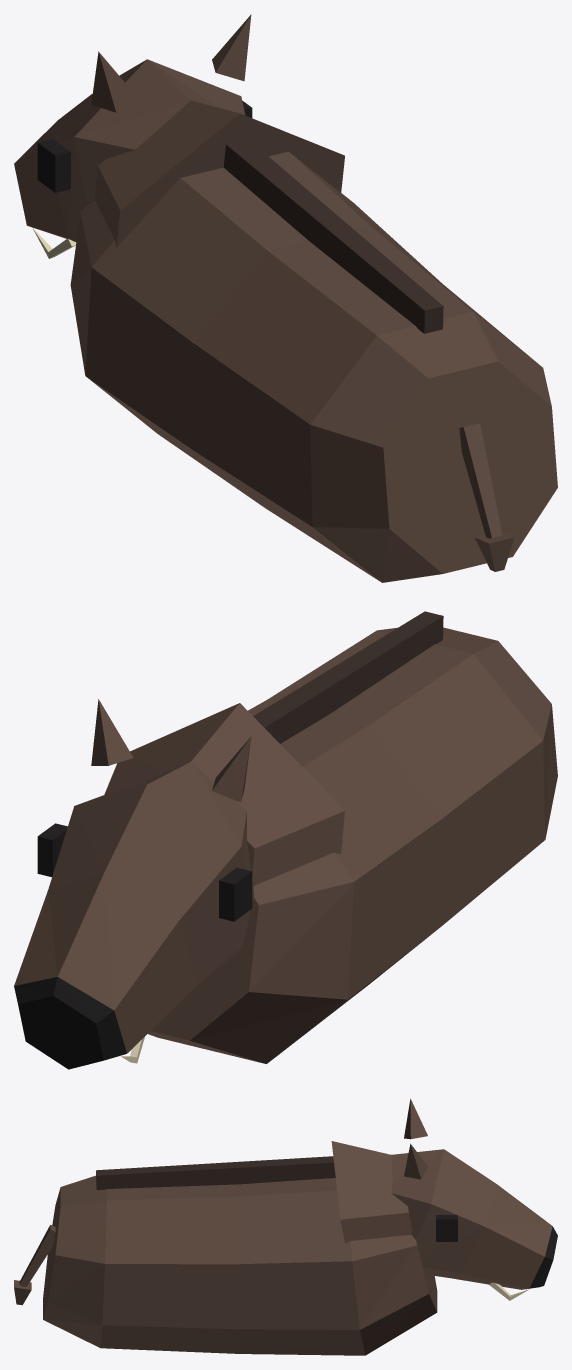
Rendered from animal_wildboar.obj.
The picture shows the model from 3 angles, top to bottom: view 1: azimuth 30°, elevation 25°; view 2: azimuth 150°, elevation 25°; view 3: azimuth 270°, elevation 25°; orthographic projection. The views are drawn at different scales.
Parts seen in each view (by area): view 1: animal_wildboar; view 2: animal_wildboar; view 3: animal_wildboar.
Boxes of the visible parts, box(x1,y1,x2,y2) form: animal_wildboar: box(14, 14, 557, 582); animal_wildboar: box(14, 611, 557, 1069); animal_wildboar: box(14, 1098, 557, 1355).
Bounding box in the file's own units: 0.3964 × 0.5205 × 1.17.
